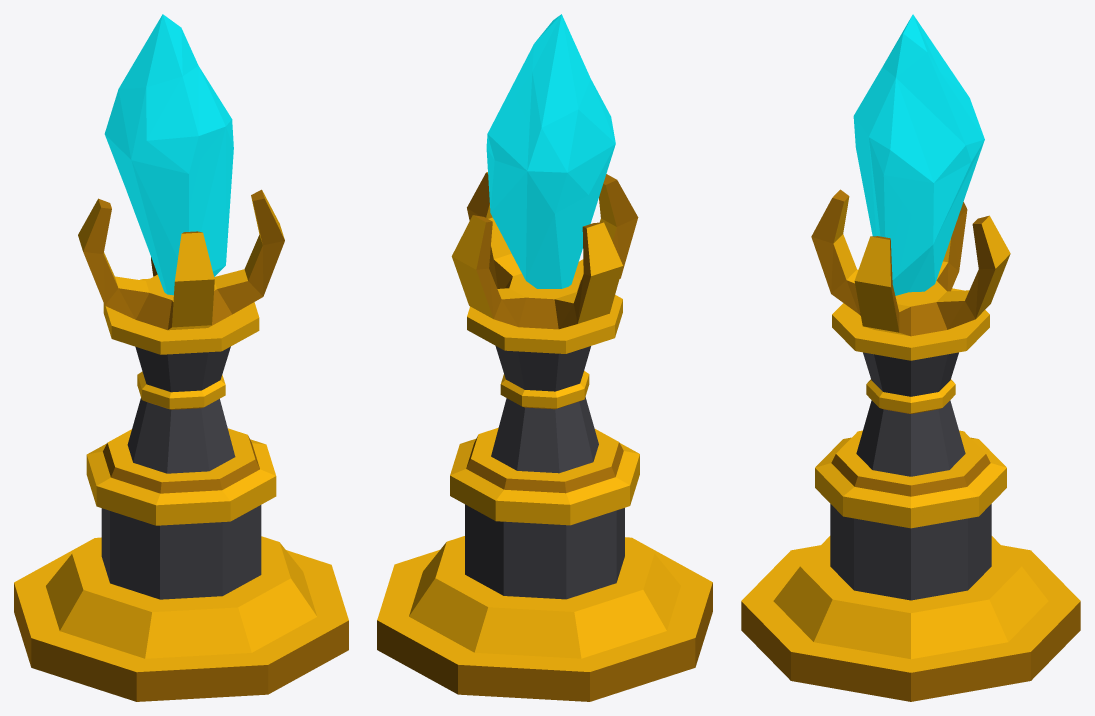
File: CrystalTotem_01.glb
The picture shows the model from 3 angles, left to right: view 1: azimuth 30°, elevation 25°; view 2: azimuth 150°, elevation 25°; view 3: azimuth 270°, elevation 25°; orthographic projection. The views are drawn at different scales.
Parts seen in each view (by area): view 1: CrystalTotem_01; view 2: CrystalTotem_01; view 3: CrystalTotem_01.
Part boxes in pixels (<box>): CrystalTotem_01: <box>14,14,348,701</box>; CrystalTotem_01: <box>377,14,712,701</box>; CrystalTotem_01: <box>741,14,1080,701</box>.
Size of what is drawn, in the model's own units: 1.22 by 2.4 by 1.22.
Materials: 2 (2 with a texture image).
